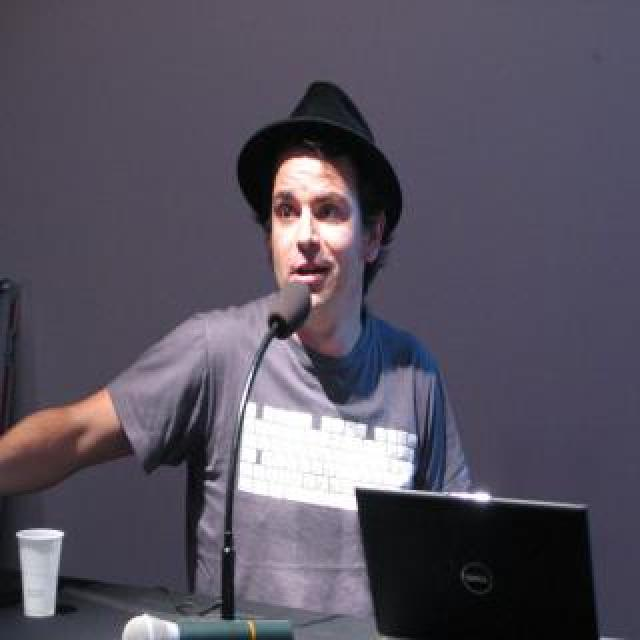laptop_computer: (348, 470, 638, 640)
